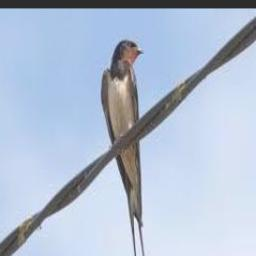Swallow: (101, 40, 151, 256)
